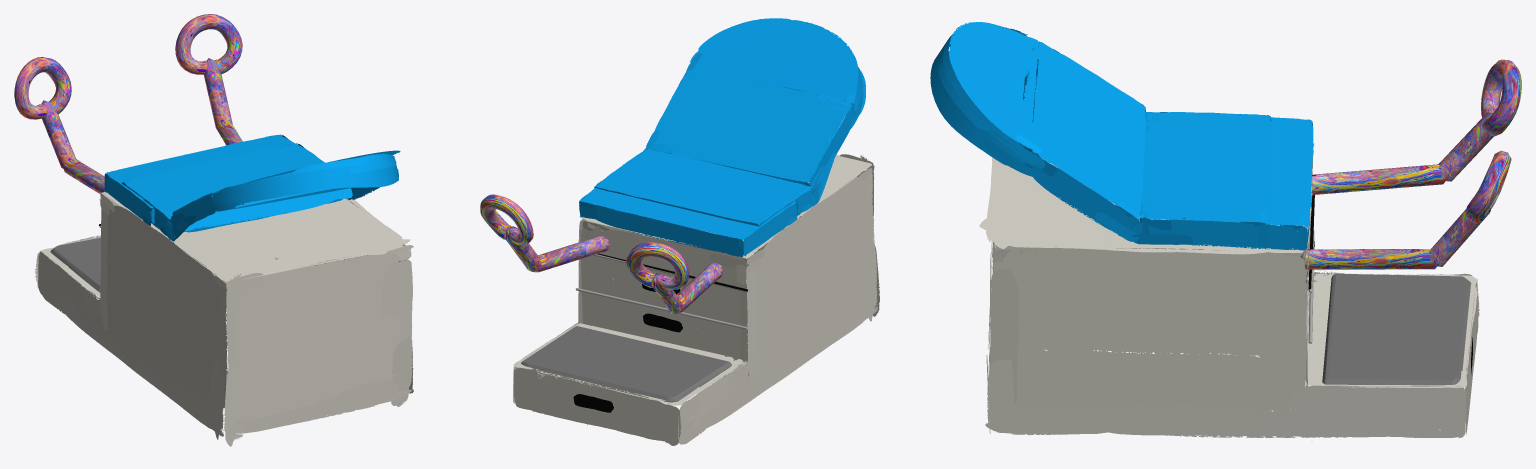
File: sketch.gltf
3 renders of one model, left to right at view 1: azimuth 30°, elevation 25°; view 2: azimuth 150°, elevation 25°; view 3: azimuth 270°, elevation 25°, orthographic. The views are drawn at different scales.
Visible parts, largest first — view 1: brush_Gouache_g0_b0, brush_MylarTube_g0_b0, brush_ShinyHull_g0_b0; view 2: brush_Gouache_g0_b0, brush_ShinyHull_g0_b0, brush_MylarTube_g0_b0, brush_Icing_g0_b0; view 3: brush_Gouache_g0_b0, brush_ShinyHull_g0_b0, brush_MylarTube_g0_b0.
Boxes of the visible parts, <box> form: brush_Gouache_g0_b0: <box>35,134,413,446</box>; brush_MylarTube_g0_b0: <box>14,14,242,194</box>; brush_ShinyHull_g0_b0: <box>50,237,100,292</box>; brush_Gouache_g0_b0: <box>513,18,879,445</box>; brush_ShinyHull_g0_b0: <box>521,326,731,402</box>; brush_MylarTube_g0_b0: <box>480,194,723,313</box>; brush_Icing_g0_b0: <box>576,253,748,329</box>; brush_Gouache_g0_b0: <box>930,22,1479,441</box>; brush_ShinyHull_g0_b0: <box>1322,273,1471,385</box>; brush_MylarTube_g0_b0: <box>1300,59,1521,269</box>.
Bounding box in the file's own units: 1.73 × 1.96 × 3.01.
4 materials, 2 textured.
